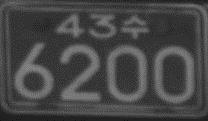0: (152, 44, 196, 104), (105, 42, 148, 102)
2: (59, 42, 102, 103)
3: (88, 12, 117, 39)
4: (54, 11, 85, 39)
6: (12, 41, 54, 100)
수: (121, 12, 149, 38)
